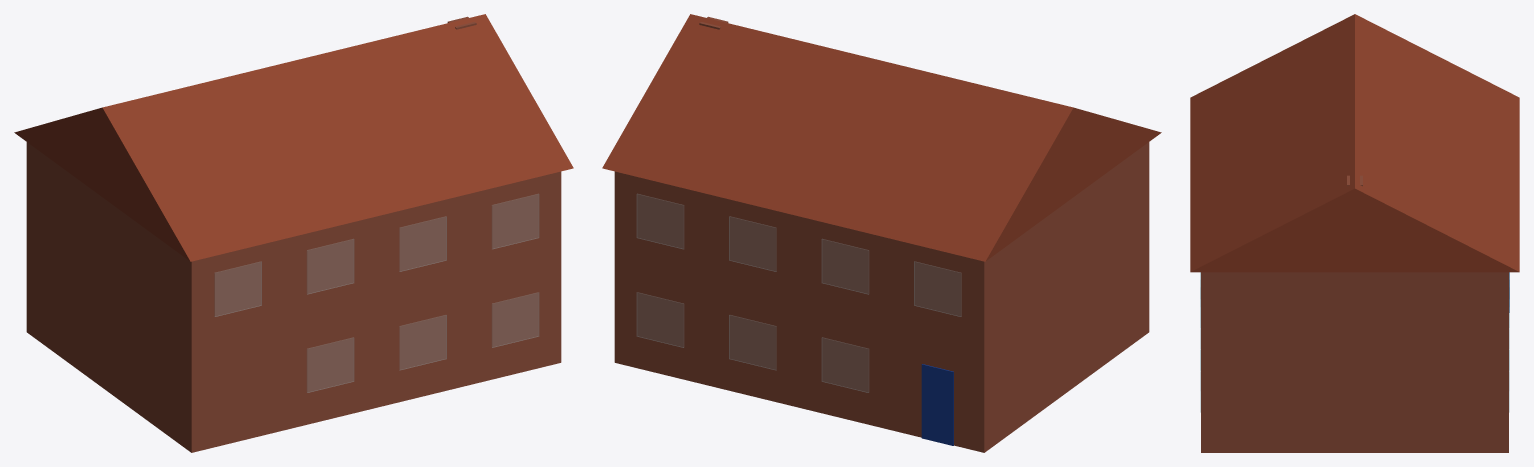
File: context.house_semi.glb
3 views of the same model, side by side, from view 1: azimuth 30°, elevation 25°; view 2: azimuth 150°, elevation 25°; view 3: azimuth 270°, elevation 25° (orthographic). The views are drawn at different scales.
Visible parts, largest first — view 1: walls__brick, roof__clay_tile, openings__glass; view 2: walls__brick, roof__clay_tile, openings__glass, openings__plastic_blue; view 3: roof__clay_tile, walls__brick.
Boxes of the visible parts, x1,y1,x2,y2 form: walls__brick: [26, 142, 561, 452]; roof__clay_tile: [14, 14, 573, 261]; openings__glass: [214, 194, 538, 392]; walls__brick: [614, 142, 1149, 452]; roof__clay_tile: [602, 14, 1161, 261]; openings__glass: [637, 194, 961, 392]; openings__plastic_blue: [921, 364, 953, 445]; roof__clay_tile: [1190, 14, 1519, 272]; walls__brick: [1201, 272, 1508, 452].
Size of the model in its own units: 11.4 by 8.15 by 9.1.
